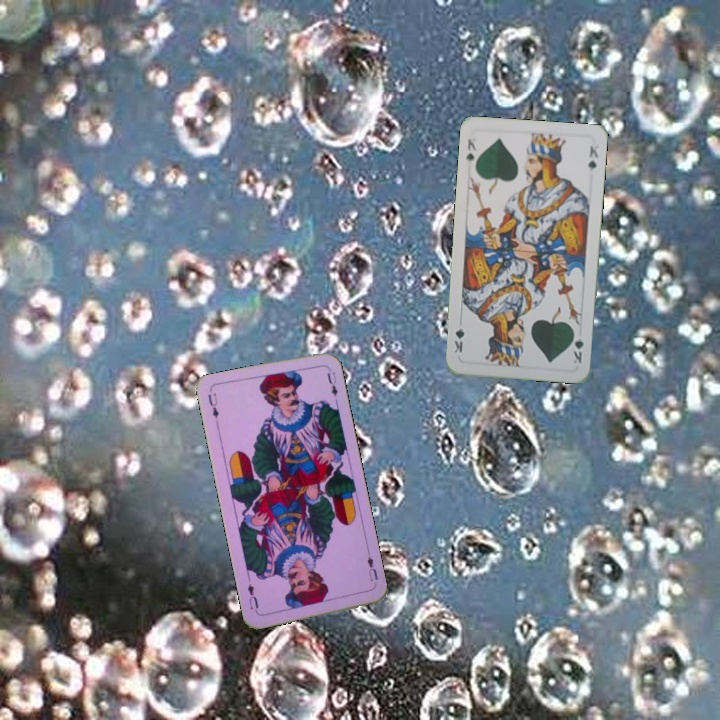EU: (204, 389, 221, 429), (363, 549, 380, 584)
GK: (569, 327, 586, 366), (462, 134, 479, 164)
